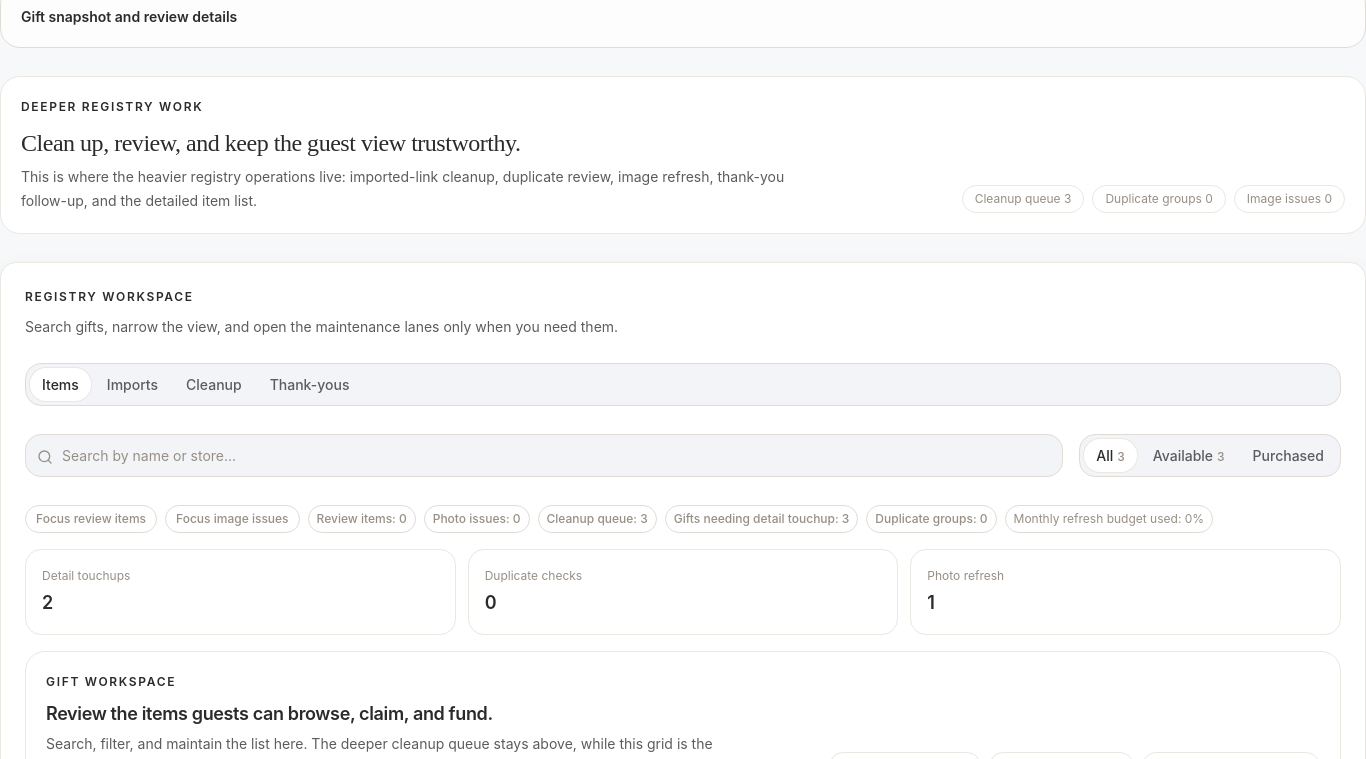
Test: RegistryDashboardRouteContent › summarizes cleanup queue severity before listing repair items
(page scrolled)
Click the button "Cleanup" at (214, 384), box [174,368,254,401]
(page scrolled)
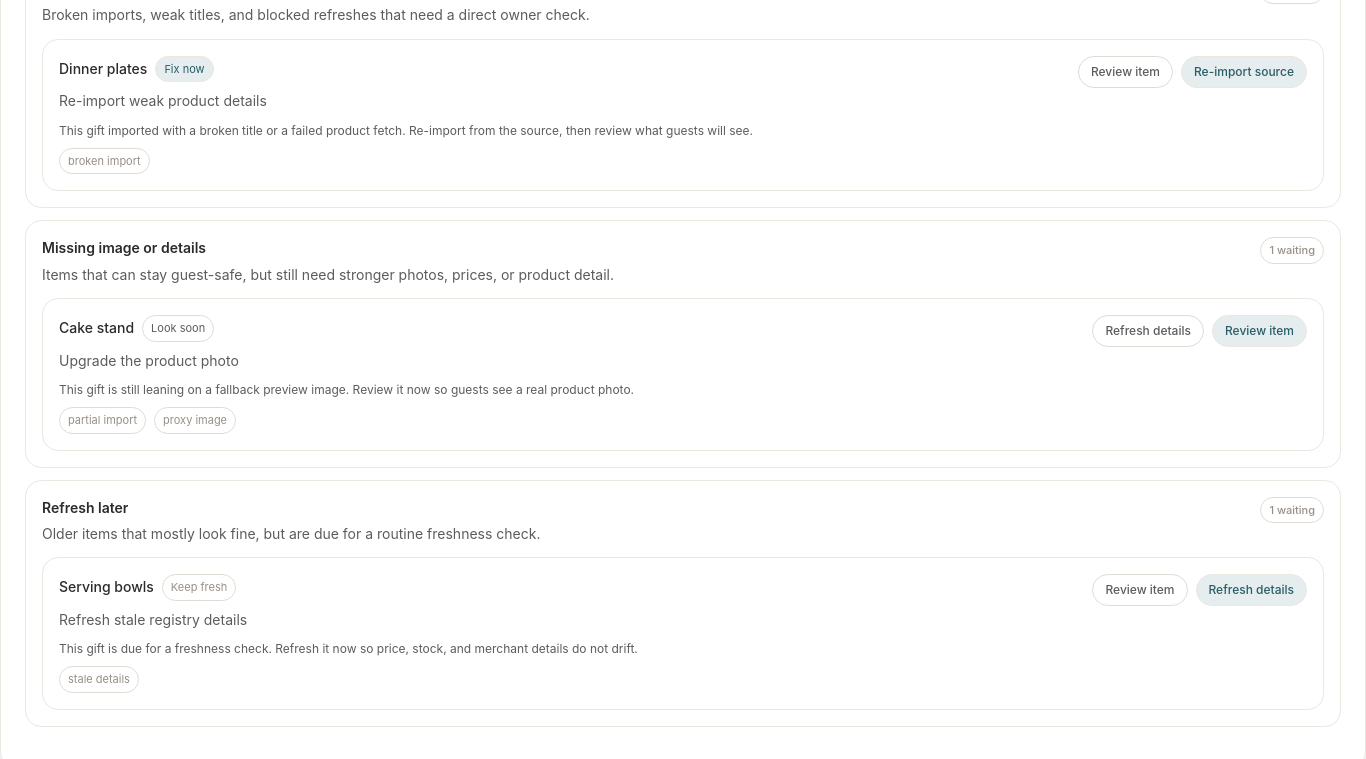
Result: the text "Re-import weak product details" is shown at [59,92,267,109]
Result: the text "Upgrade the product photo" is shown at [59,352,239,368]
Result: the text "Refresh stale registry details" is shown at [59,611,247,628]
